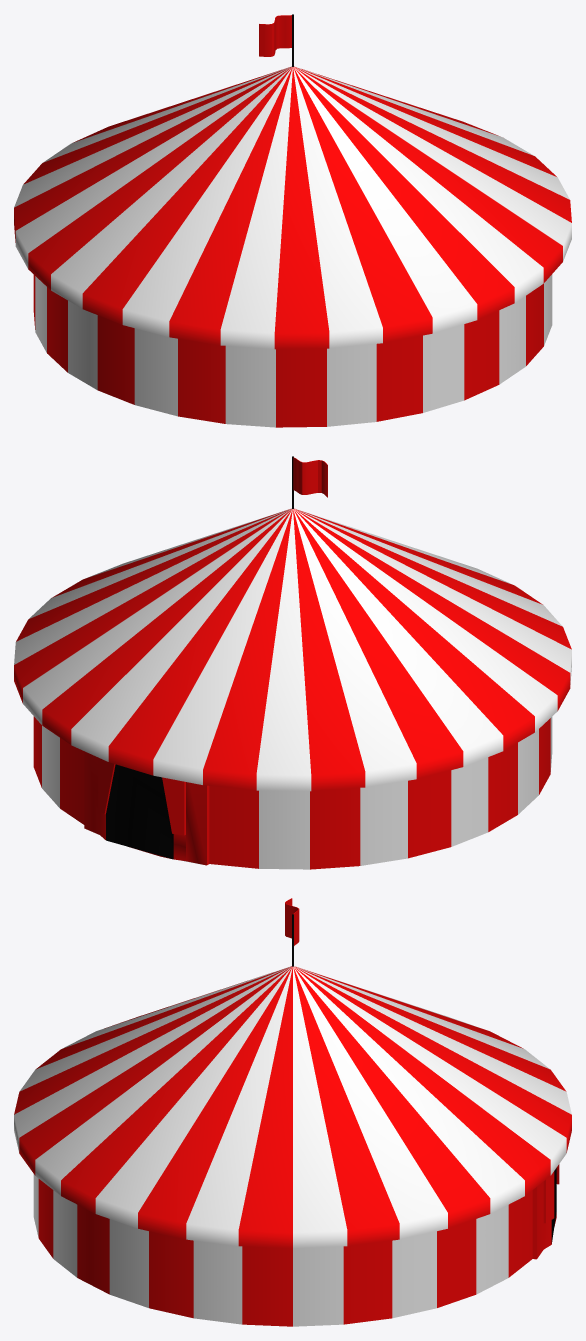
The model's file is tentfairgroundRED.fbx.
3 views of the same model, one above another, from view 1: azimuth 30°, elevation 25°; view 2: azimuth 150°, elevation 25°; view 3: azimuth 270°, elevation 25° (orthographic).
Parts seen in each view (by area): view 1: tentfairgroundRED; view 2: tentfairgroundRED; view 3: tentfairgroundRED.
Boxes of the visible parts, x1,y1,x2,y2 form: tentfairgroundRED: (14,14,571,427); tentfairgroundRED: (14,456,571,869); tentfairgroundRED: (14,898,571,1326).
Bounding box in the file's own units: 3937 × 2355 × 3937.
